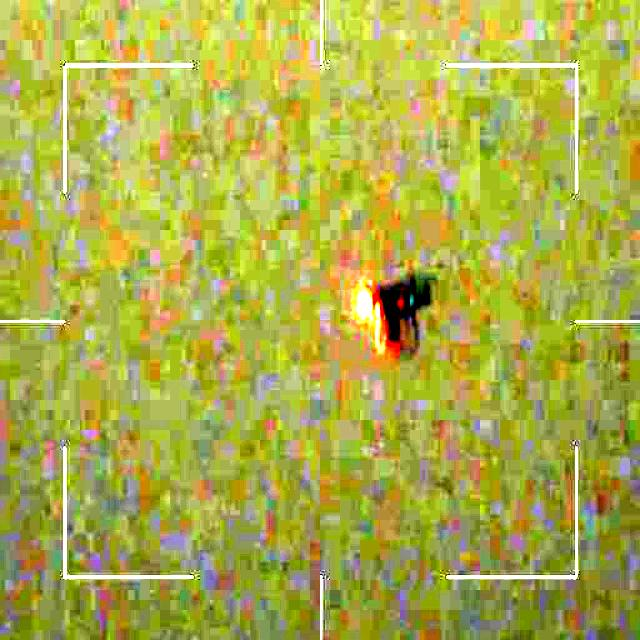bird: (345, 266, 436, 362)
